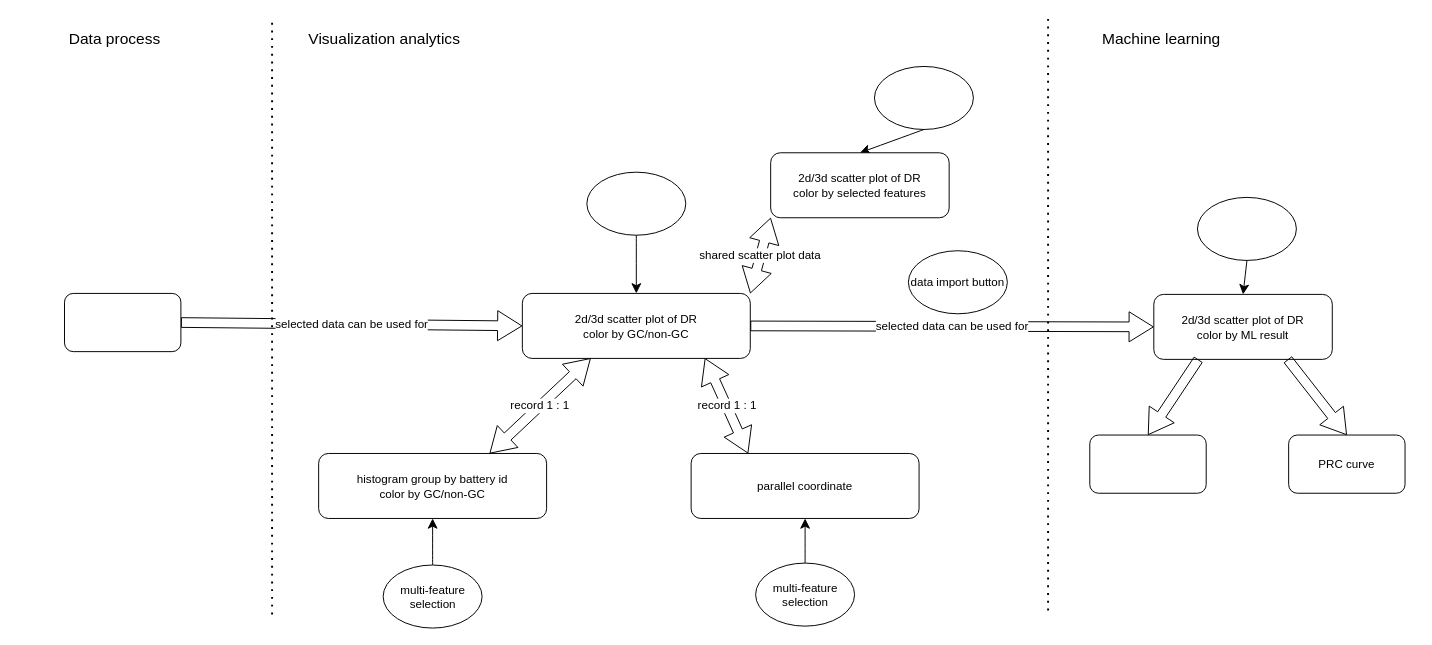
Image size: 1432x645. Some labels were removed from this diagram. Here are the shapes that lost their labels. From the top down, the box of each, then its label:
(873, 65, 973, 129): feature selection
(586, 171, 686, 235): DR method selection
(1196, 196, 1296, 260): ML selection (unsupervised)
(64, 292, 181, 352): csv processed via Pandas
(1089, 434, 1206, 493): table confusion matrix
